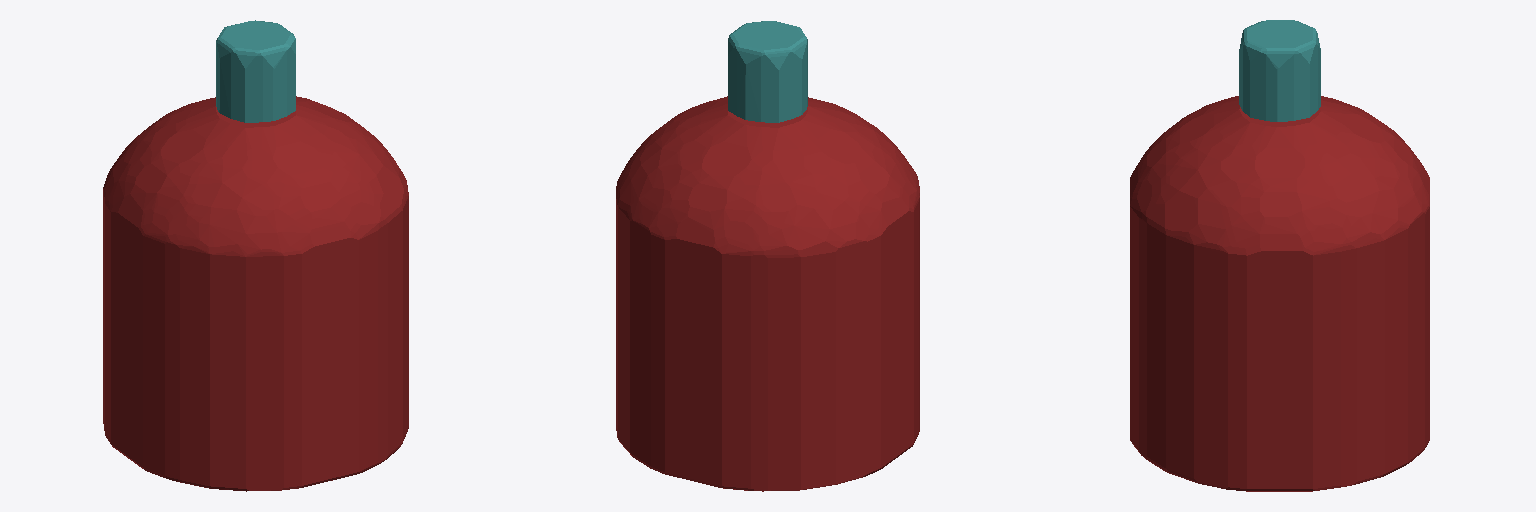
URDF robot description (root):
<robot name="root">
  <link name="bottle_body">
    <inertial>
      <origin xyz="0 0 0" rpy="0 0 0"/>
    </inertial>
    <mass value="1.00E-02"/>
    <visual>
      <origin xyz="0 0 0" rpy="0 0 0"/>
      <geometry>
        <mesh filename="core-bottle-5d6001f9e6a15de3e3edb5ba52088f8c-coacd_convex_piece_1.obj" scale="1.0000E-01 1.0000E-01 1.0000E-01"/>
      </geometry>
      <material name="">
        <color rgba="6.00E-01 2.00E-01 2.00E-01 1"/>
      </material>
    </visual>
    <collision>
      <origin xyz="0 0 0" rpy="0 0 0"/>
      <geometry>
        <mesh filename="core-bottle-5d6001f9e6a15de3e3edb5ba52088f8c-coacd_convex_piece_1.obj" scale="1.0000E-01 1.0000E-01 1.0000E-01"/>
      </geometry>
    </collision>
  </link>
  <link name="bottle_cap">
    <origin xyz="0 0 0.002" rpy="0 0 0"/>
    <mass value="1.00E-02"/>
    <visual>
      <origin xyz="0 0 0.002" rpy="0 0 0"/>
      <geometry>
        <mesh filename="core-bottle-5d6001f9e6a15de3e3edb5ba52088f8c-coacd_convex_piece_0.obj" scale="1.0000E-01 1.0000E-01 1.0000E-01"/>
      </geometry>
      <material name="">
        <color rgba="3.00E-01 6.00E-01 6.00E-01 1"/>
      </material>
    </visual>
    <collision>
      <origin xyz="0 0 0.002" rpy="0 0 0"/>
      <geometry>
        <mesh filename="core-bottle-5d6001f9e6a15de3e3edb5ba52088f8c-coacd_convex_piece_0.obj" scale="1.0000E-01 1.0000E-01 1.0000E-01"/>
      </geometry>
    </collision>
  </link>
  <joint name="bottle_cap_joint" type="revolute">
    <origin xyz="0 0 0" rpy="0 0 0"/>
    <parent link="bottle_body"/>
    <child link="bottle_cap"/>
    <axis xyz="0 0 1"/>
    <limit lower="0.00" upper="6.28"/>
    <dynamics damping="0.05"/>
  </joint>
</robot>

--- Render facts (derived) ---
Views: 3 orthographic renders of the robot side by side, from view 1: azimuth 30°, elevation 25°; view 2: azimuth 150°, elevation 25°; view 3: azimuth 270°, elevation 25°.
Robot: root — 2 links, 1 joints (1 revolute); root link bottle_body; default pose: all joints at 0.
Visible links, largest first — view 1: bottle_body, bottle_cap; view 2: bottle_body, bottle_cap; view 3: bottle_body, bottle_cap.
Boxes of the visible links, x1,y1,x2,y2 form: bottle_body: [103, 96, 408, 491]; bottle_cap: [216, 20, 295, 122]; bottle_body: [616, 96, 919, 491]; bottle_cap: [728, 21, 807, 122]; bottle_body: [1130, 96, 1429, 491]; bottle_cap: [1239, 20, 1320, 121].
Size in the robot's own frame: 0.1116 by 0.1116 by 0.1624 metres.
2 mesh visuals loaded from 2 distinct referenced files (2 OBJ).